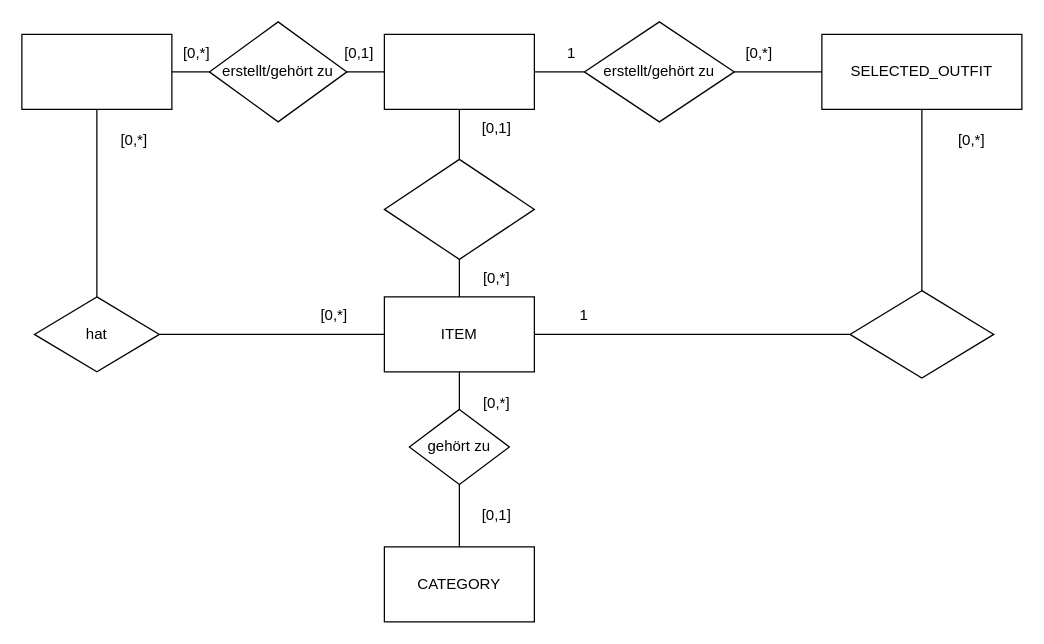
This 1044x644 diagram has some shape labels left out. The centre of each missing label's shape, as x and y in pixels:
"besitzt/gehört zu" belongs at (x=458, y=208).
"gehört zu/hat" belongs at (x=921, y=333).
"TAG" belongs at (x=96, y=71).
"USER" belongs at (x=458, y=71).
